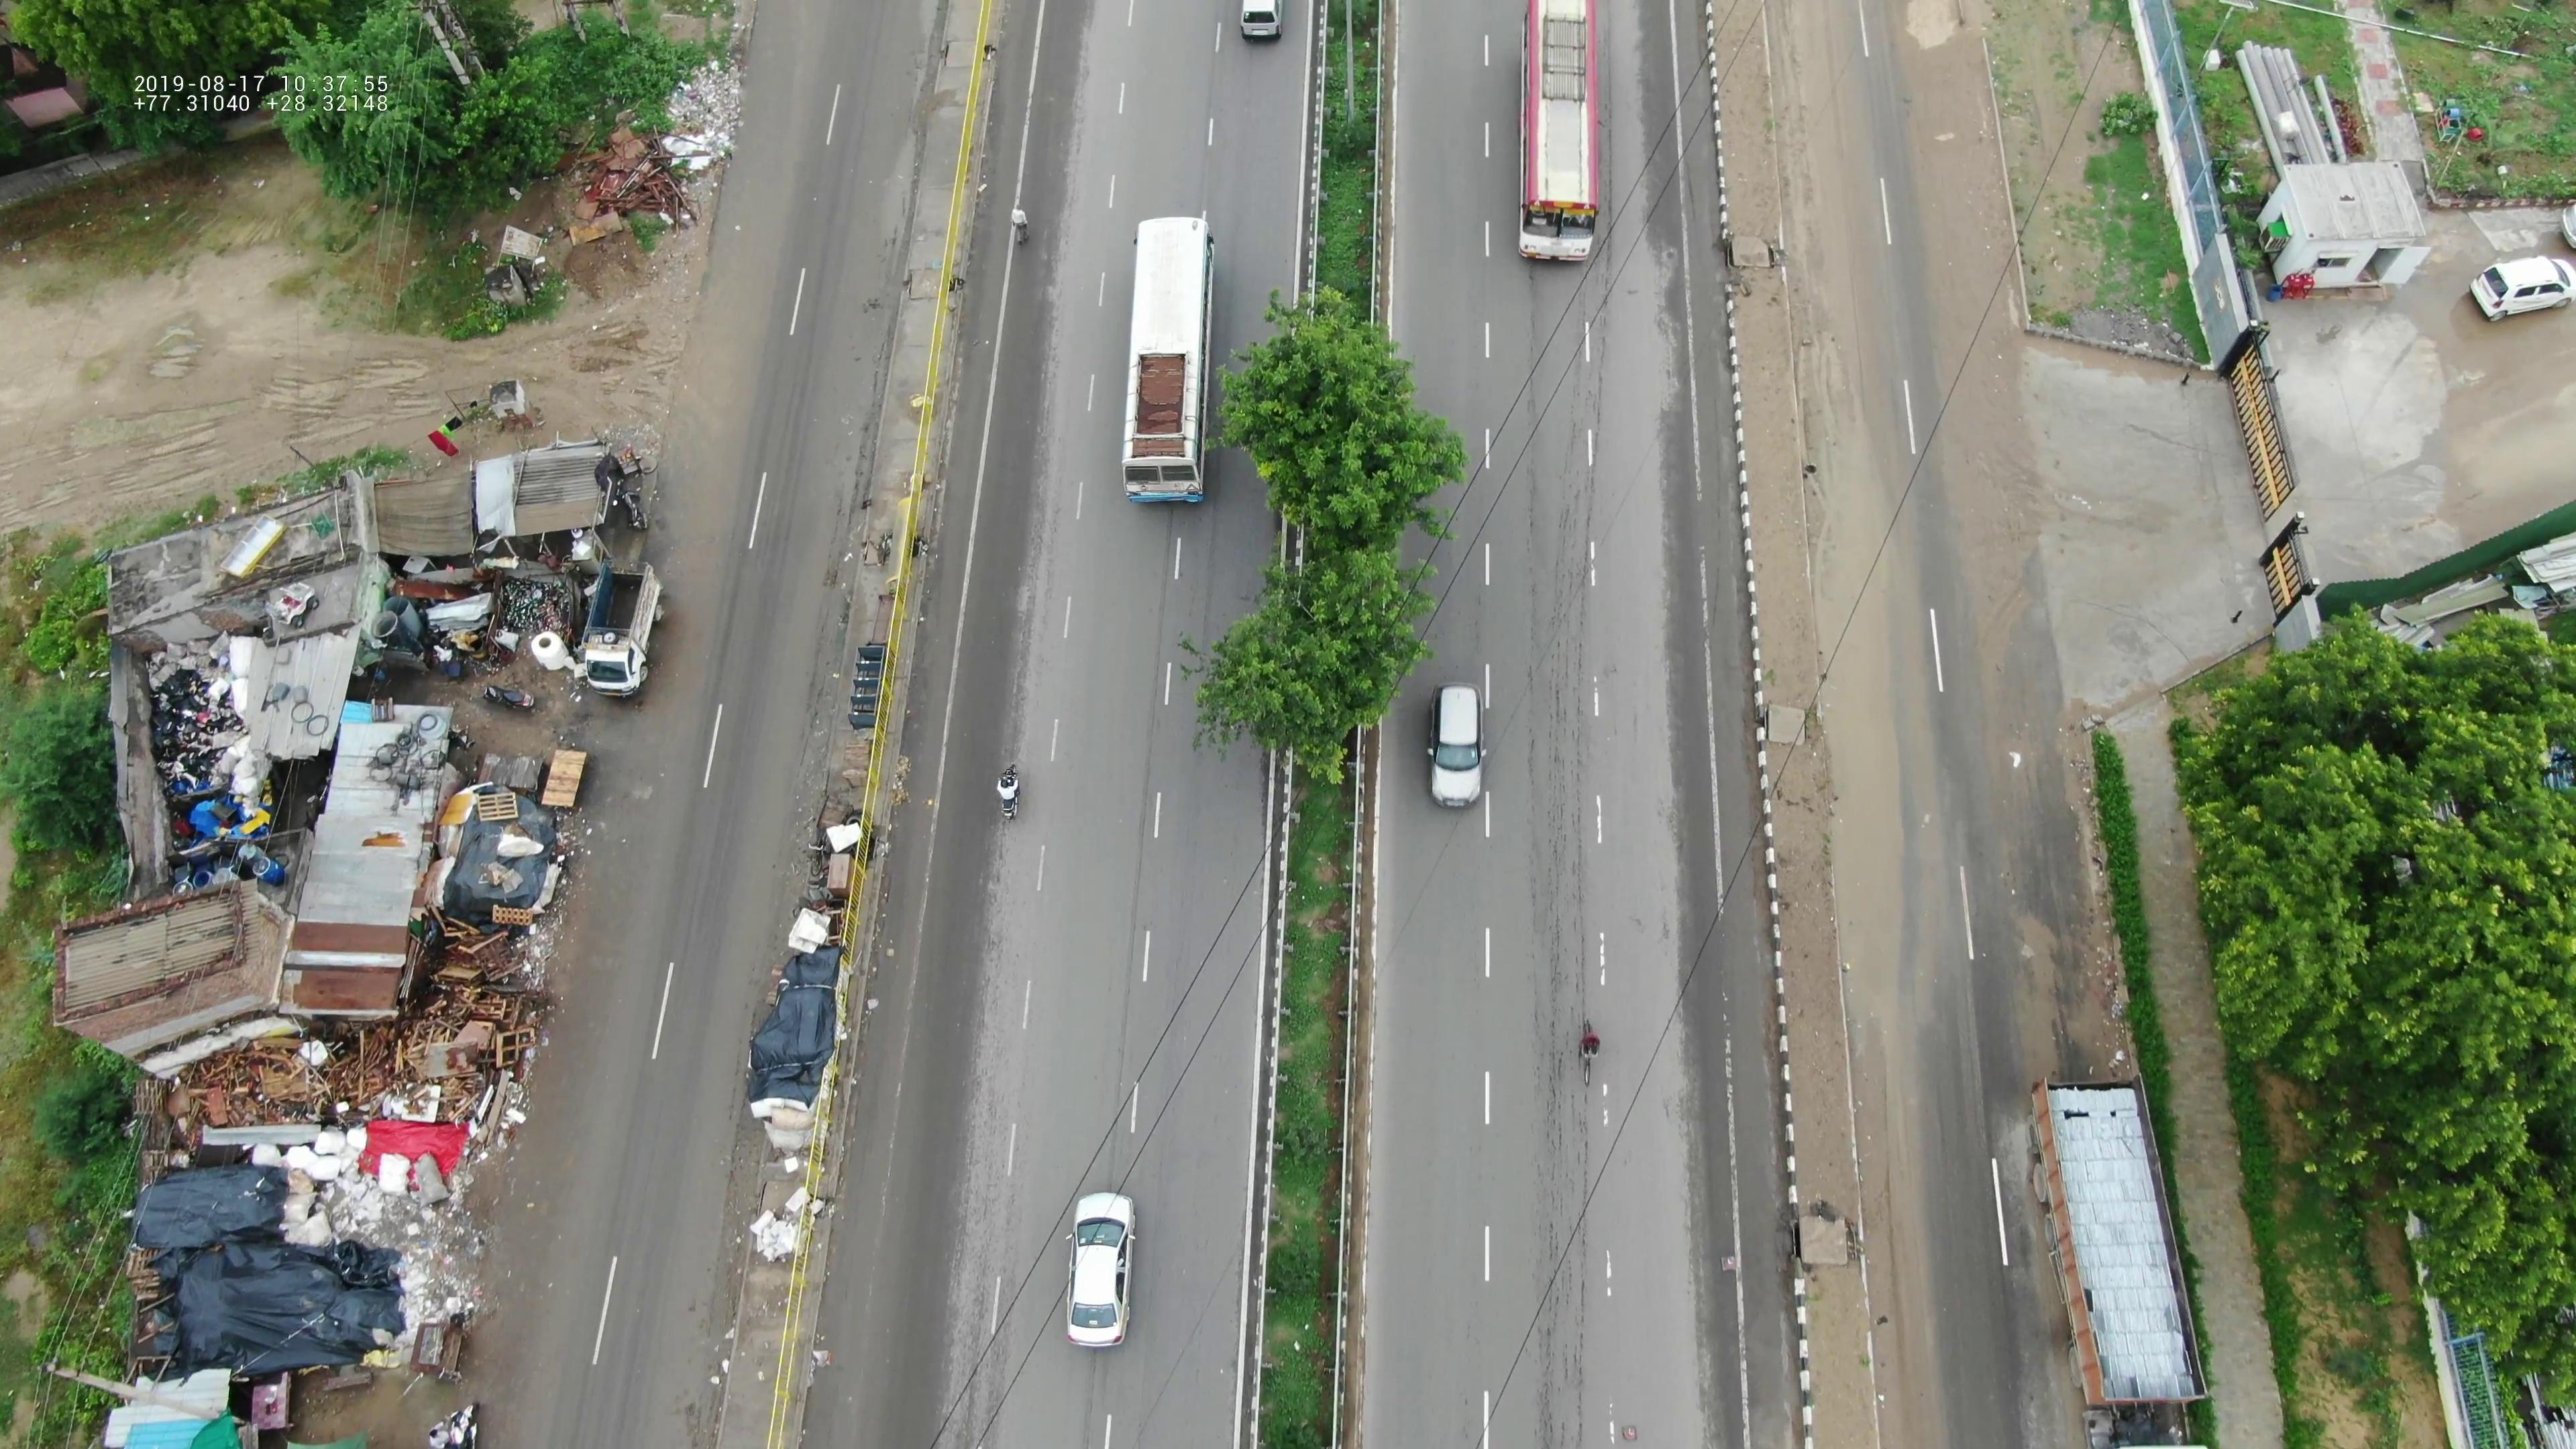Muddy_road: (1812, 384, 1913, 784), (1769, 46, 1881, 364), (1842, 837, 1921, 1145), (1868, 1169, 1941, 1422)
